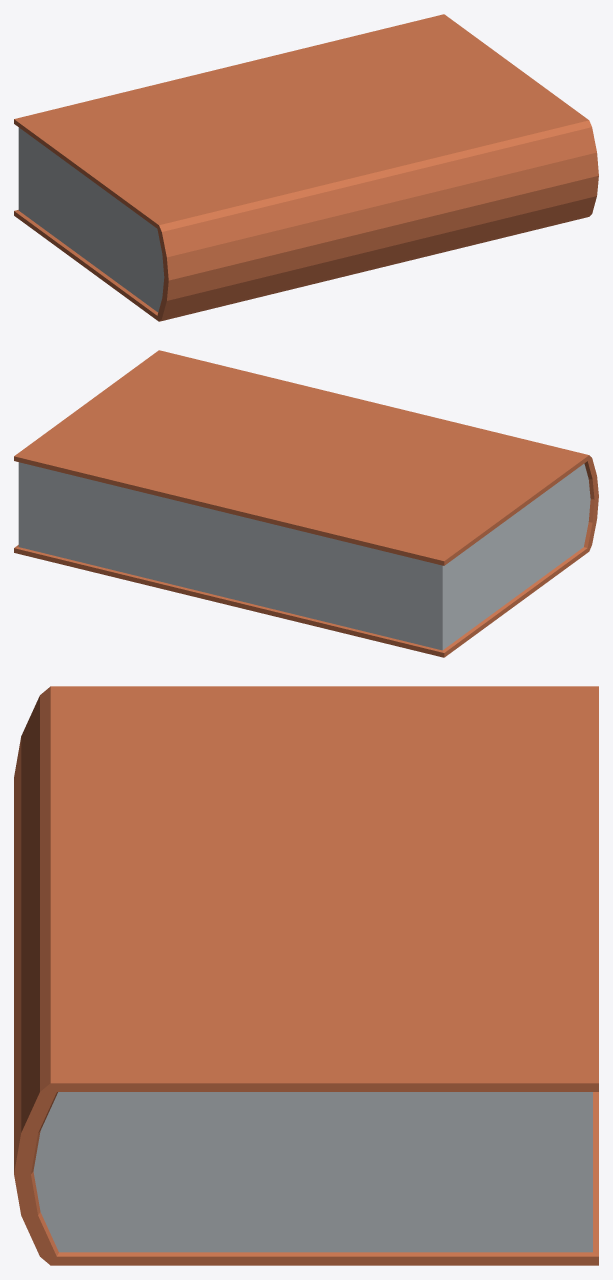
File: QuestBook.fbx
The picture shows the model from 3 angles, top to bottom: view 1: azimuth 30°, elevation 25°; view 2: azimuth 150°, elevation 25°; view 3: azimuth 270°, elevation 25°; orthographic projection. The views are drawn at different scales.
Visible parts, largest first — view 1: QuestBook; view 2: QuestBook; view 3: QuestBook.
Boxes of the visible parts, x1,y1,x2,y2 form: QuestBook: [14, 14, 598, 321]; QuestBook: [14, 350, 598, 657]; QuestBook: [14, 686, 598, 1265].
Size of the model in its own units: 100 by 21.44 by 62.3.
